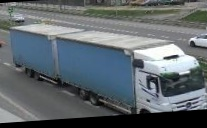truck: (9, 12, 207, 122)
